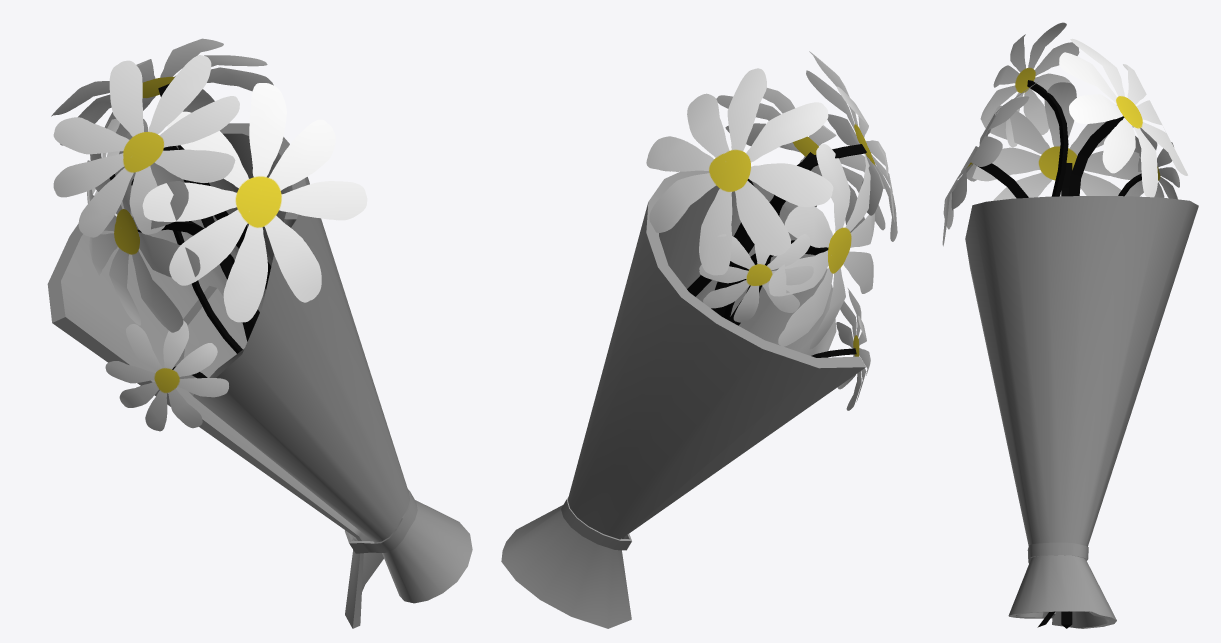
The model's file is Flowers.FBX.
The picture shows the model from 3 angles, left to right: view 1: azimuth 30°, elevation 25°; view 2: azimuth 150°, elevation 25°; view 3: azimuth 270°, elevation 25°; orthographic projection. The views are drawn at different scales.
Visible parts, largest first — view 1: Helix002; view 2: Helix002; view 3: Helix002.
Part boxes in pixels (<box>): Helix002: <box>47,38,472,628</box>; Helix002: <box>501,51,897,628</box>; Helix002: <box>942,22,1198,628</box>.
Bounding box in the file's own units: 18.06 × 12.39 × 27.76.
Materials: 3 (1 with a texture image).
